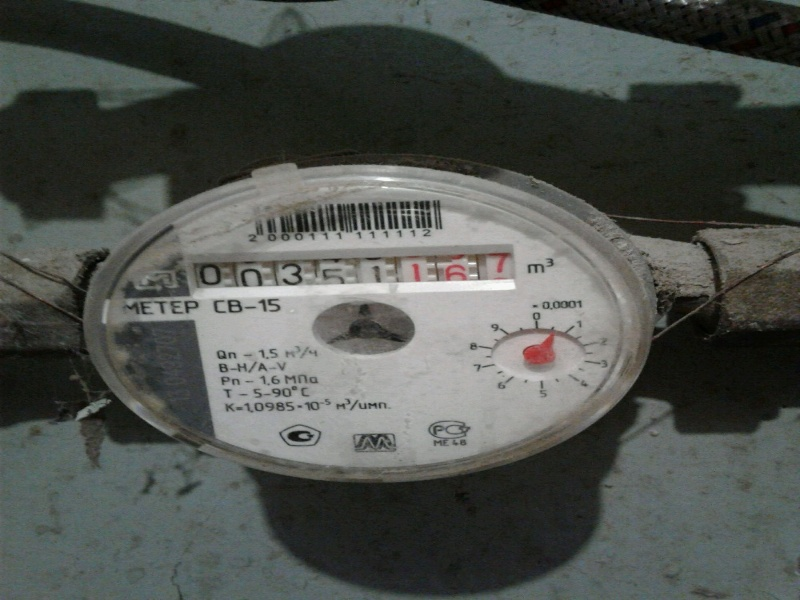meter: (190, 246, 517, 291)
